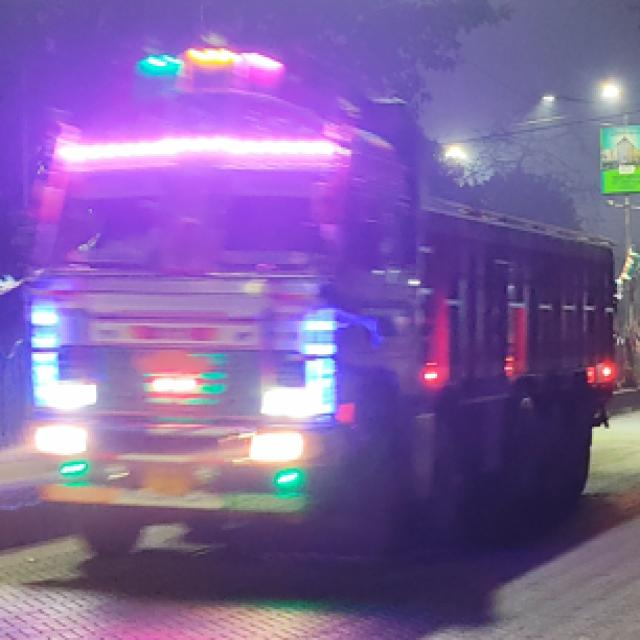truck: (25, 42, 619, 567)
